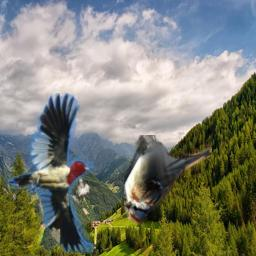Sparrow: (124, 135, 212, 224)
Woodpecker: (8, 93, 94, 254)
